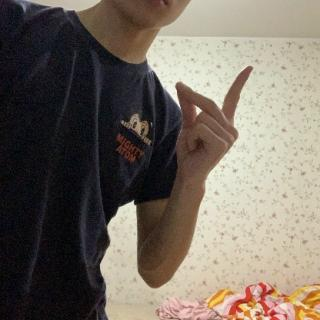TAA: (170, 60, 257, 183)
